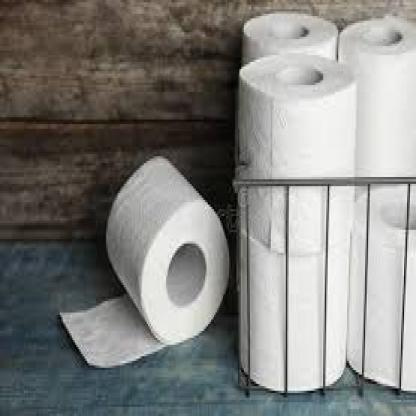tissue: (106, 157, 230, 351)
